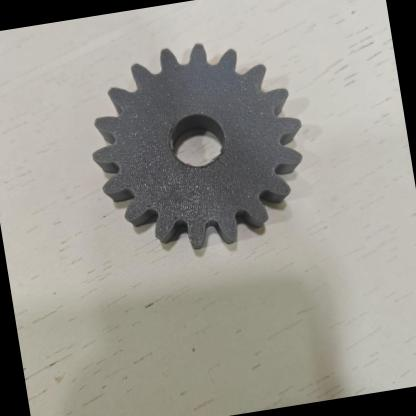gear: (58, 2, 351, 286)
